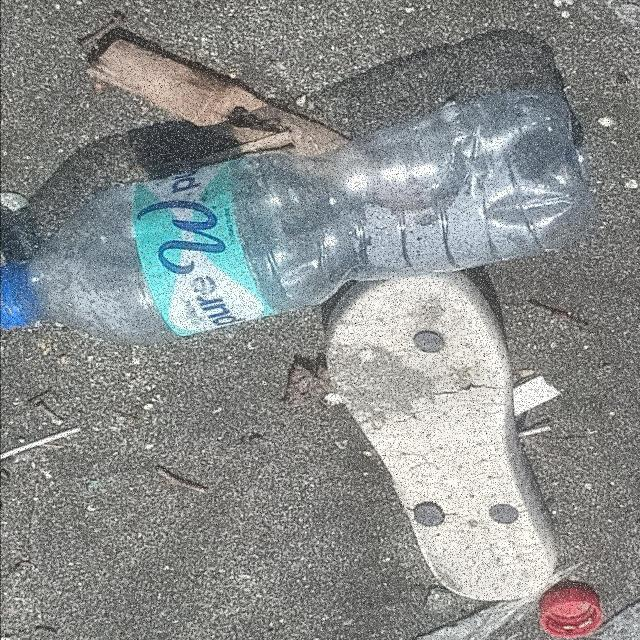plastic_waste: (1, 87, 599, 349), (539, 587, 605, 640)
rubber_waste: (324, 272, 561, 605)
